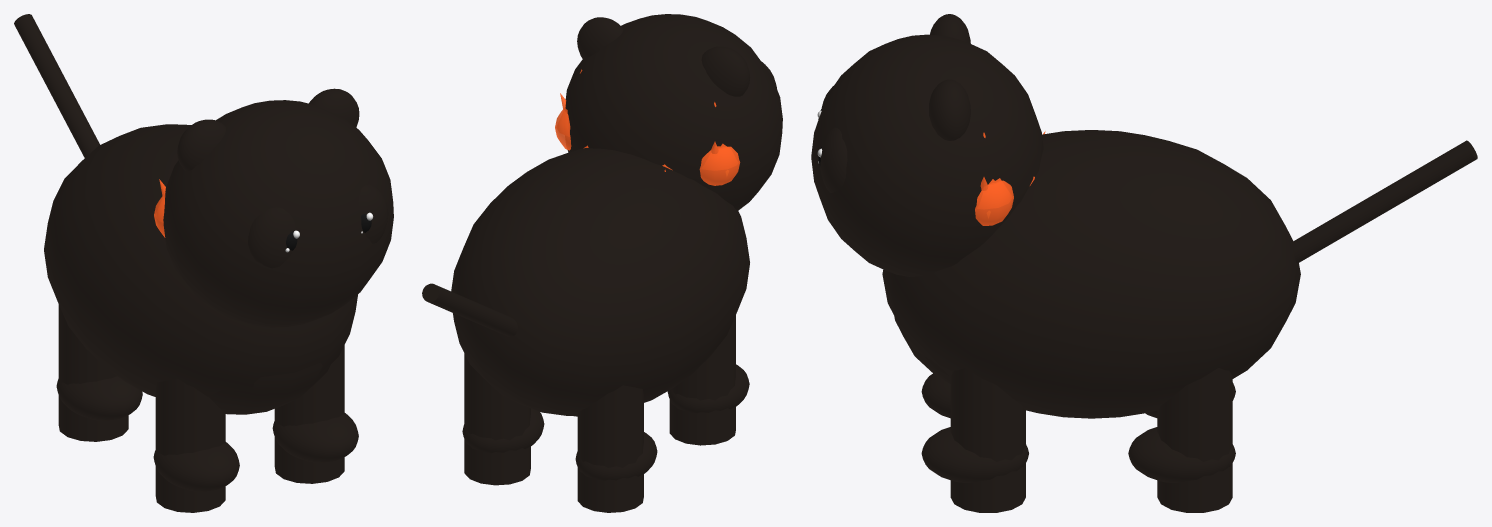
The model's file is micolumi.glb.
3 views of the same model, side by side, from view 1: azimuth 30°, elevation 25°; view 2: azimuth 150°, elevation 25°; view 3: azimuth 270°, elevation 25° (orthographic). The views are drawn at different scales.
Parts seen in each view (by area): view 1: malha__contorno (×14); view 2: malha__contorno (×11), malha__semsombra (×2); view 3: malha__contorno (×11), malha__semsombra.
Boxes of the visible parts, <box> form: malha__contorno (×14): <box>14,14,393,512</box>; malha__contorno (×11): <box>422,14,782,512</box>; malha__semsombra (×2): <box>555,108,740,185</box>; malha__contorno (×11): <box>811,14,1477,512</box>; malha__semsombra: <box>975,180,1013,225</box>.
Bounding box in the file's own units: 0.4523 × 0.688 × 0.9905.
